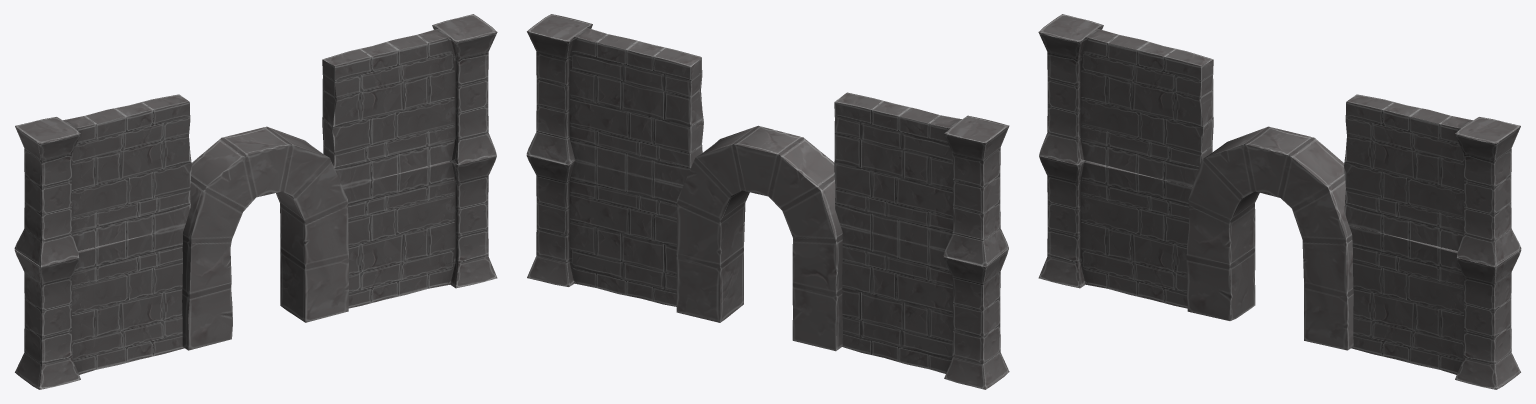
Rendered from slave_king_wall_5.fbx.
3 views of the same model, side by side, from view 1: azimuth 30°, elevation 25°; view 2: azimuth 150°, elevation 25°; view 3: azimuth 330°, elevation 25° (orthographic).
Parts seen in each view (by area): view 1: wall_2_retopo.002; view 2: wall_2_retopo.002; view 3: wall_2_retopo.002.
Part boxes in pixels (x1,y1,x2,y2): wall_2_retopo.002: (14,14,497,389); wall_2_retopo.002: (526,14,1009,389); wall_2_retopo.002: (1038,14,1521,389).
Bounding box in the file's own units: 3067 × 1584 × 297.
